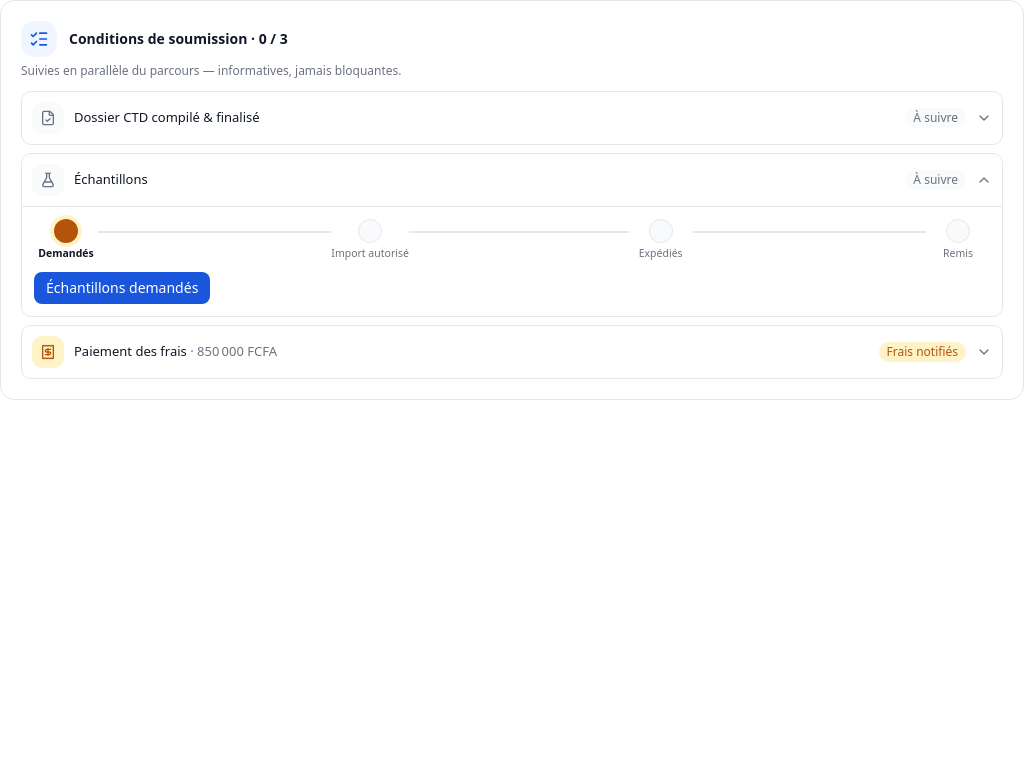
Test: LifecycleConditionsPanel — conditions de soumission (M3) › preuve de paiement : montant prérempli depuis le dernier `fees_invoiced`
This screenshot has width=1024, height=768.
Click the button "Paiement des frais · 850 000 FCFA Frais notifiés".
click(48, 352)  # box top-left (22, 326), bottom-right (1002, 378)
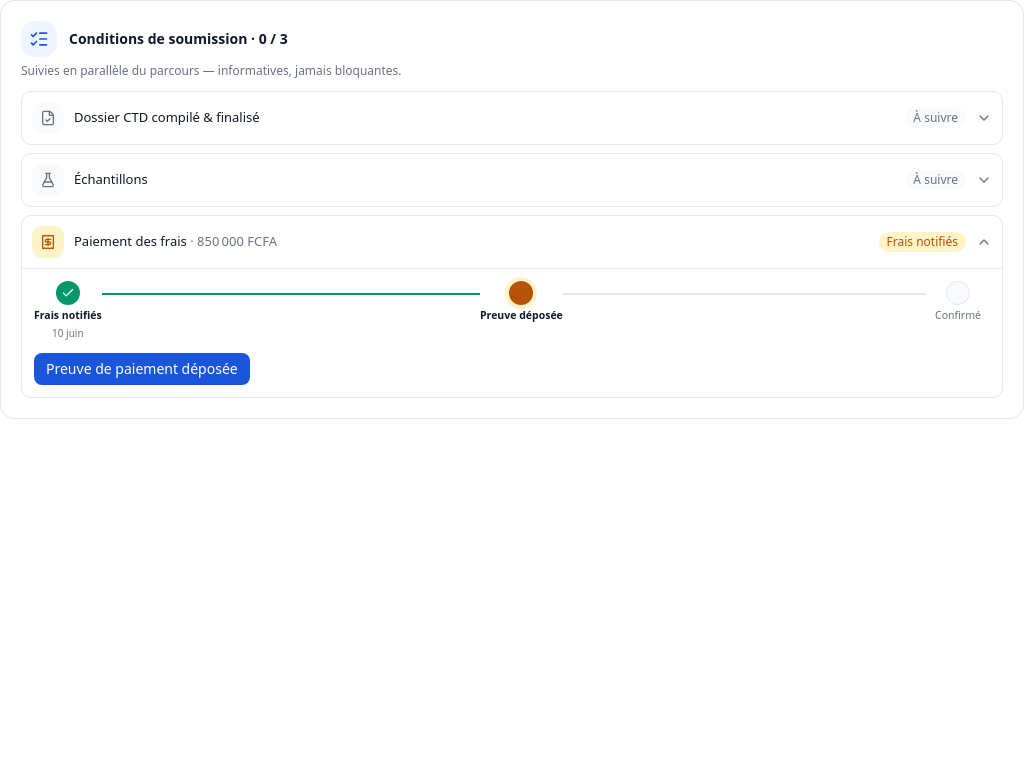
Click the button "Preuve de paiement déposée".
click(142, 369)  # box top-left (34, 353), bottom-right (250, 385)
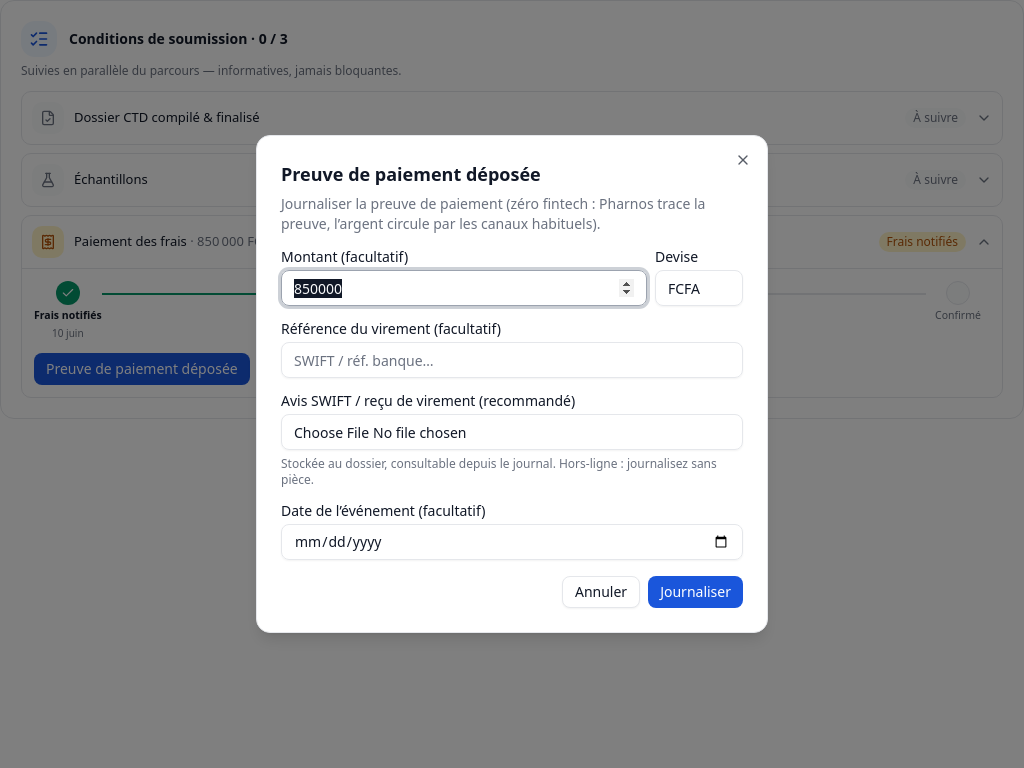
Result: the number field labelled "Montant (facultatif)" holds "850000" at top-left (281, 270), bottom-right (647, 306)
